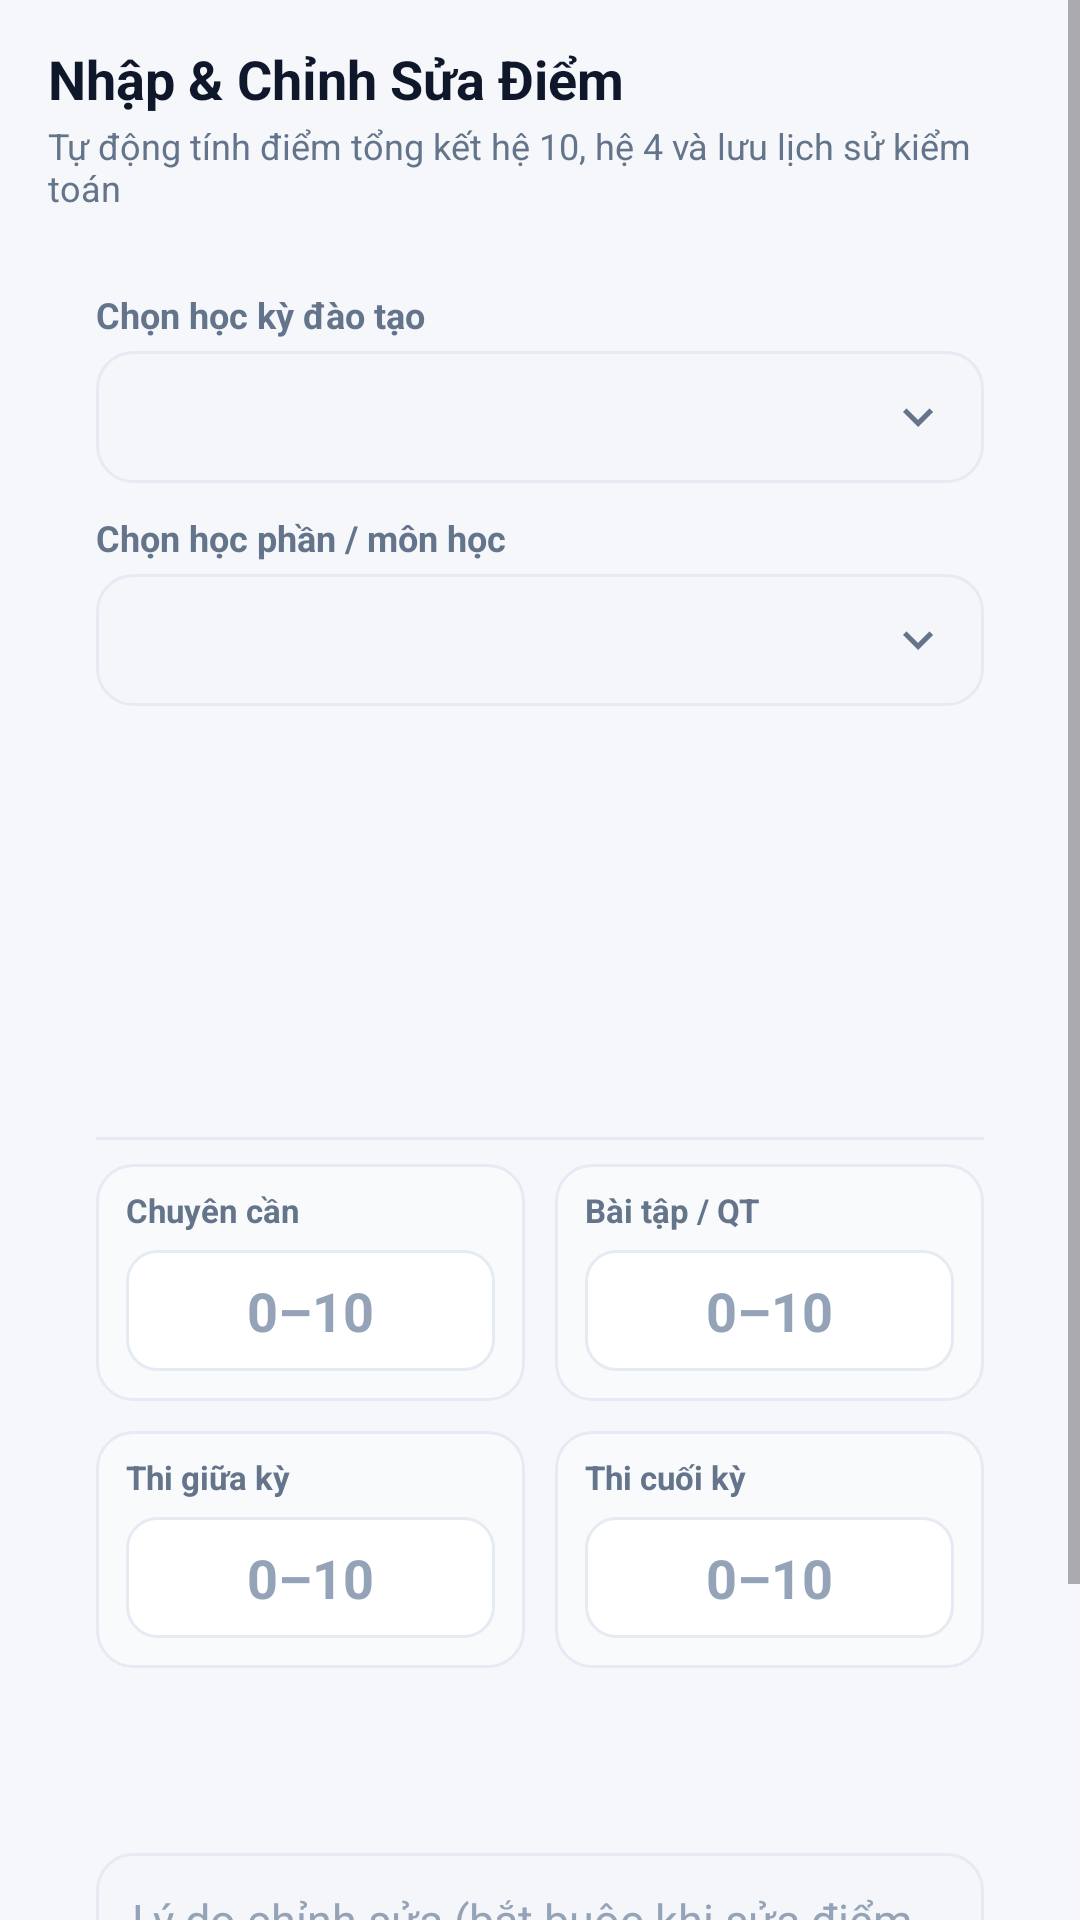

Locate icon controls on the screen. Image size 1080×1920, boxes as (x1=x1, y1=y1, x2=x2, y2=y2).
expand: (x1=903, y1=408, x2=933, y2=427), (x1=903, y1=631, x2=933, y2=650)
